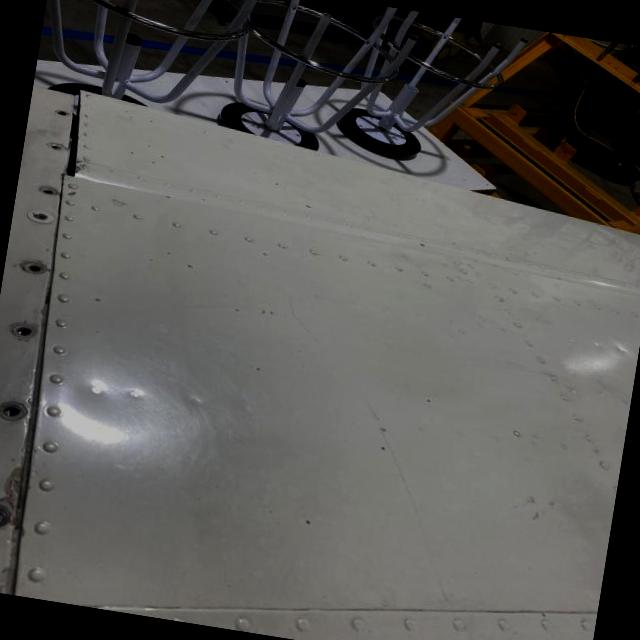Missing Fastener: (0, 398, 26, 422), (16, 258, 48, 275), (7, 320, 35, 339), (36, 183, 58, 194), (44, 139, 64, 150), (52, 107, 67, 114)
